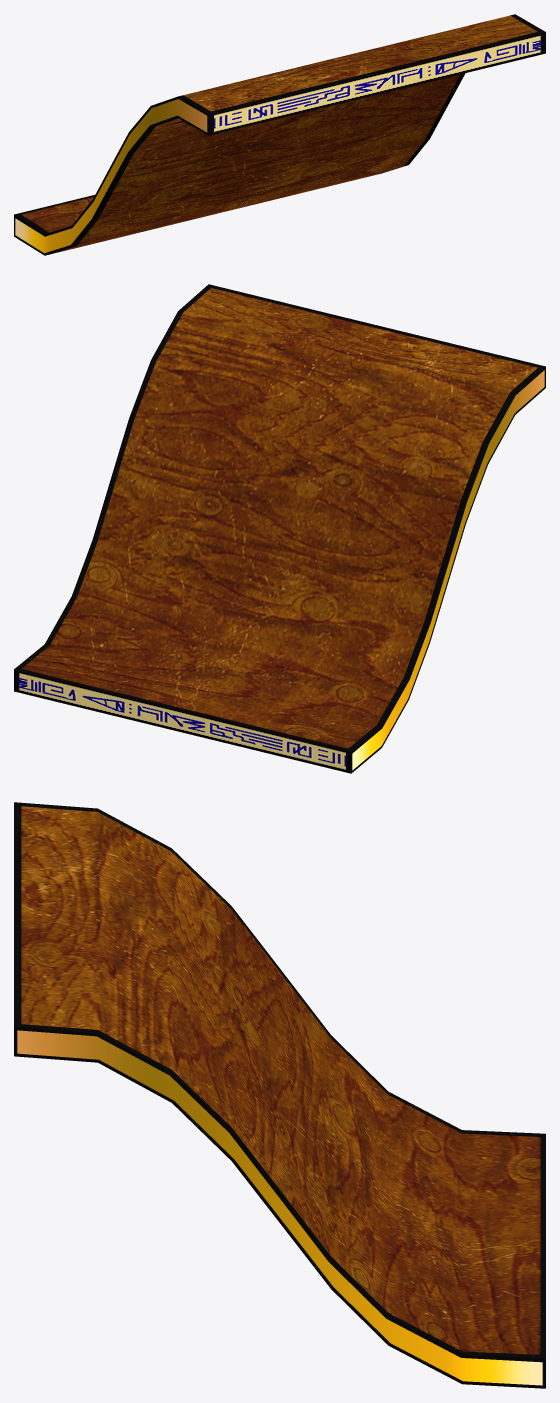
File: jungle_slope2.gltf
The picture shows the model from 3 angles, top to bottom: view 1: azimuth 30°, elevation 25°; view 2: azimuth 150°, elevation 25°; view 3: azimuth 270°, elevation 25°; orthographic projection. The views are drawn at different scales.
Visible parts, largest first — view 1: jungle_slope2_glb; view 2: jungle_slope2_glb; view 3: jungle_slope2_glb.
Part boxes in pixels (x1,y1,x2,y2): jungle_slope2_glb: [14, 14, 545, 255]; jungle_slope2_glb: [14, 284, 545, 773]; jungle_slope2_glb: [14, 802, 545, 1388].
Size of what is drawn, in the model's own units: 4 by 3 by 4.
1 material, 1 textured.
